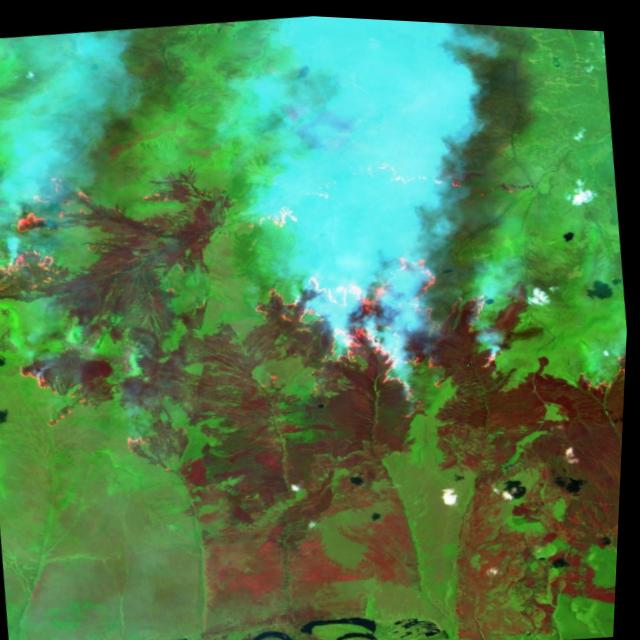fire: (0, 99, 637, 491)
